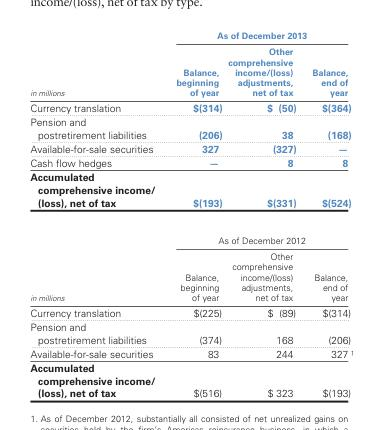table: (29, 29, 353, 399)
table column: (29, 29, 164, 399), (224, 29, 303, 399), (164, 29, 224, 399), (303, 29, 353, 399)
table column header: (29, 29, 353, 99)
table row: (29, 42, 353, 99), (29, 247, 353, 304), (29, 169, 353, 221), (29, 360, 353, 399), (29, 114, 353, 141), (29, 319, 353, 346), (29, 221, 353, 247), (29, 99, 353, 114), (29, 304, 353, 319), (29, 141, 353, 155), (29, 155, 353, 169), (29, 346, 353, 360), (29, 29, 353, 42)
table spanning cell: (29, 169, 164, 247), (29, 29, 164, 99), (164, 221, 353, 247), (164, 29, 353, 42)
